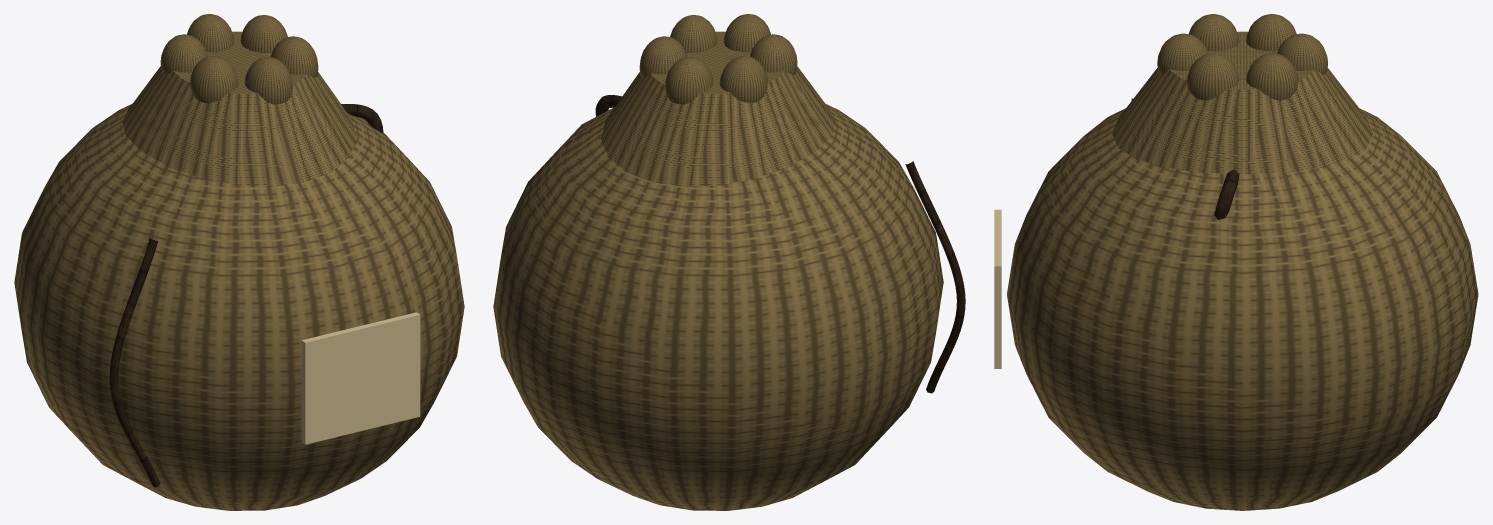
3 views of the same model, side by side, from view 1: azimuth 30°, elevation 25°; view 2: azimuth 150°, elevation 25°; view 3: azimuth 270°, elevation 25° (orthographic).
Parts seen in each view (by area): view 1: sand-0; view 2: sand-0; view 3: sand-0.
Boxes of the visible parts, x1,y1,x2,y2 form: sand-0: (14, 14, 464, 510); sand-0: (493, 14, 965, 510); sand-0: (994, 14, 1478, 510).
Bounding box in the file's own units: 0.26 × 0.29 × 0.28.
3 materials, 2 textured.
